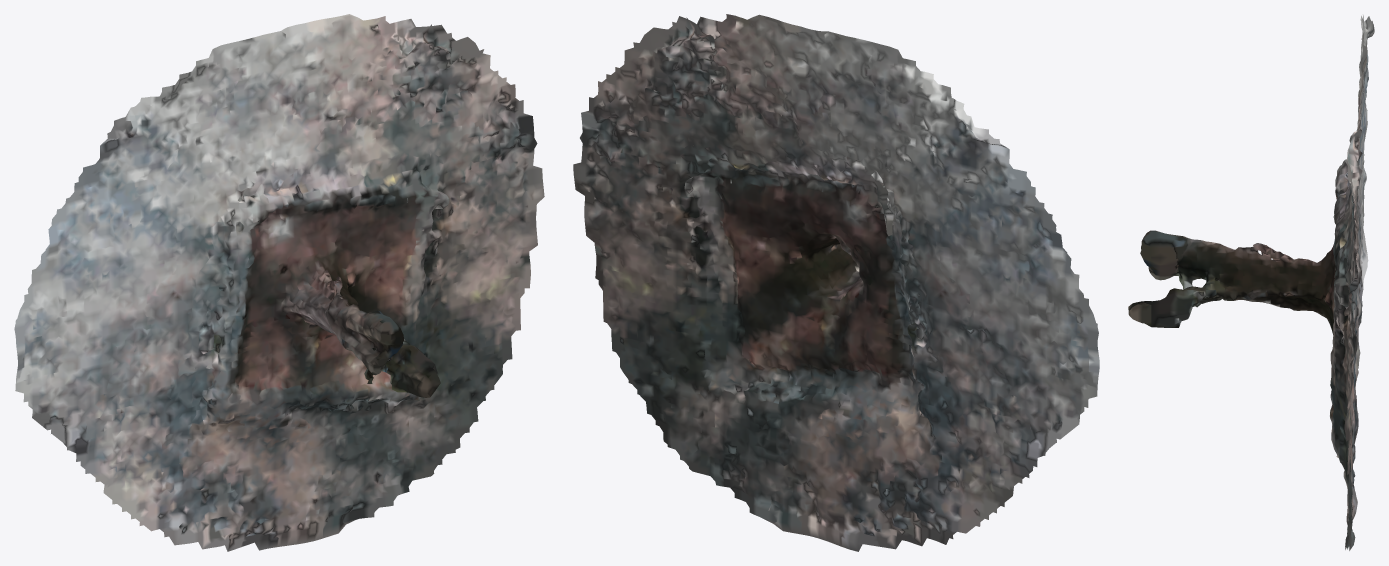
3 renders of one model, left to right at view 1: azimuth 30°, elevation 25°; view 2: azimuth 150°, elevation 25°; view 3: azimuth 270°, elevation 25°, orthographic. The views are drawn at different scales.
Size of the model in its own units: 6.49 by 6.05 by 2.84.
